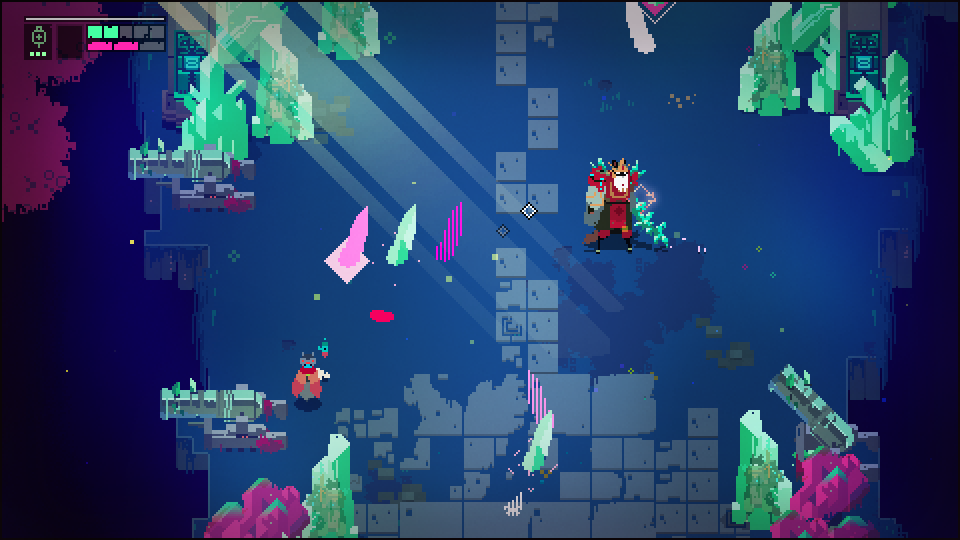hanged_crys: (433, 199, 467, 268), (522, 408, 554, 479), (380, 200, 413, 265), (341, 201, 371, 267)
hanged_man: (586, 157, 672, 253)
player: (289, 355, 324, 404)
